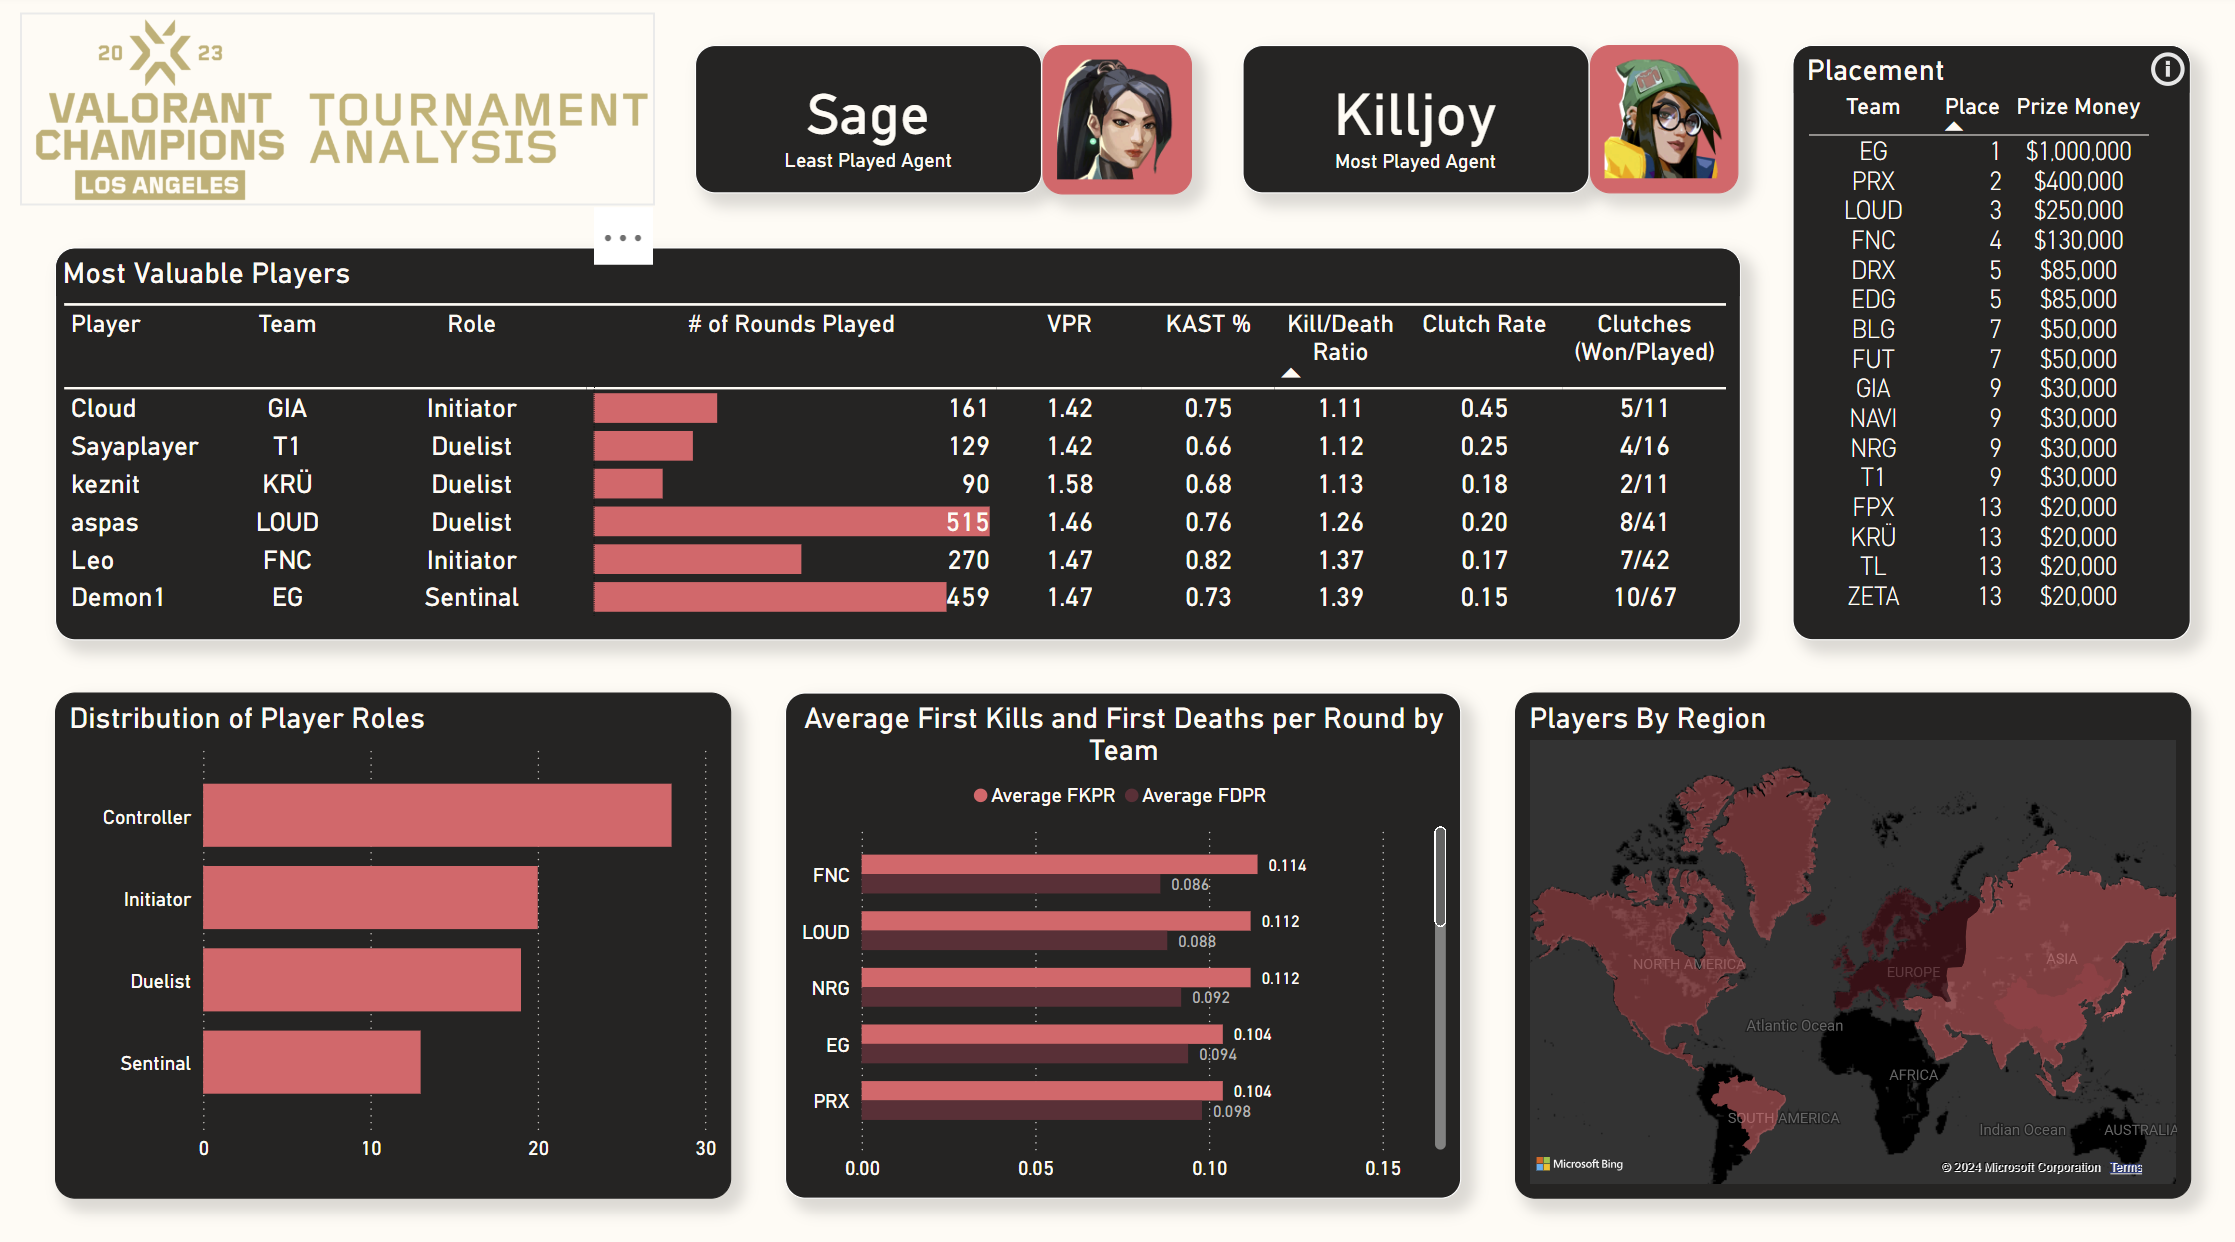

The dashboard page shown, as its layout file describes it:
{"tool":"powerbi","page":{"name":"Tournament Analysis","canvas":[1664,936],"ordinal":2},"visuals":[{"type":"clusteredBarChart","title":"Distribution of Player Roles","fields":{"Category":["AgentRoles.Role"],"Y":["PlayerDominantRoles.DominantRole"]},"box":[40,521,501,375],"z":1000},{"type":"tableEx","title":"Most Valuable Players ","fields":{"Values":["ValProData.PlayerName","ValProData.Team","ValProData.DominantRole","ValProData.Rnd","ValProData.VPR","ValProData.KAST_percentage","ValProData.K:D","ValProData.CL_percentage","ValProData.CL"]},"box":[40.3,190.6,1249.7,291.4],"z":2000},{"type":"filledMap","title":"Players By Region","fields":{"Category":["TeamRegion.Region"]},"box":[1122,521,501,375],"z":3000},{"type":"card","fields":{"Values":["AgentPlayCount.Most Played Agent"]},"box":[921,40.3,257,110],"z":4000},{"type":"card","fields":{"Values":["AgentPlayCount.Least Played Agent"]},"box":[514.9,40.3,257,110],"z":5000},{"type":"clusteredBarChart","title":"Average First Kills and First Deaths per Round by Team","fields":{"Category":["TeamRegion.Team"],"Y":["ValProData.FKPR","ValProData.FDPR"]},"box":[581,521,501,375],"z":6000},{"type":"tableEx","title":"Placement","fields":{"Values":["TeamPlacement.Team","TeamPlacement.Place","TeamPlacement.PrizeMoney"]},"box":[1329,40,295,441],"z":7000},{"type":"image","box":[1178,40.7,110.2,110.2],"z":8000},{"type":"image","box":[772,39.9,110.7,110.7],"z":9000},{"type":"image","box":[15,16,470.5,142.7],"z":10000},{"type":"actionButton","box":[1328.6,106.1,104.1,22.4],"z":11000},{"type":"actionButton","box":[1589.4,39.2,33.9,39.2],"z":12000},{"type":"actionButton","box":[1328.6,126.5,106.1,23.5],"z":13000},{"type":"actionButton","box":[1328.6,150,106.1,24.5],"z":14000},{"type":"actionButton","box":[1328.6,174.5,107.1,20.4],"z":15000},{"type":"actionButton","box":[1328.3,196.1,107.2,20],"z":16000},{"type":"actionButton","box":[1328.9,216.1,107.2,22],"z":17000},{"type":"actionButton","box":[1329.4,238.3,107.2,22.2],"z":18000},{"type":"actionButton","box":[1330,260.6,107.2,22.2],"z":19000}]}

Visuals, with their boxes in screenshot pixels (x1, y1, x2, y2), scaled from the page's 1664x936 canvas onto the 2235x1242 screenshot:
"Distribution of Player Roles" clusteredBarChart: {"x1": 54, "y1": 691, "x2": 727, "y2": 1189}
"Most Valuable Players " tableEx: {"x1": 54, "y1": 253, "x2": 1733, "y2": 640}
"Players By Region" filledMap: {"x1": 1507, "y1": 691, "x2": 2180, "y2": 1189}
card - AgentPlayCount.Most Played Agent: {"x1": 1237, "y1": 53, "x2": 1582, "y2": 199}
card - AgentPlayCount.Least Played Agent: {"x1": 692, "y1": 53, "x2": 1037, "y2": 199}
"Average First Kills and First Deaths per Round by Team" clusteredBarChart: {"x1": 780, "y1": 691, "x2": 1453, "y2": 1189}
"Placement" tableEx: {"x1": 1785, "y1": 53, "x2": 2181, "y2": 638}
image: {"x1": 1582, "y1": 54, "x2": 1730, "y2": 200}
image: {"x1": 1037, "y1": 53, "x2": 1186, "y2": 200}
image: {"x1": 20, "y1": 21, "x2": 652, "y2": 211}
actionButton: {"x1": 1785, "y1": 141, "x2": 1924, "y2": 171}
actionButton: {"x1": 2135, "y1": 52, "x2": 2180, "y2": 104}
actionButton: {"x1": 1785, "y1": 168, "x2": 1927, "y2": 199}
actionButton: {"x1": 1785, "y1": 199, "x2": 1927, "y2": 232}
actionButton: {"x1": 1785, "y1": 232, "x2": 1928, "y2": 259}
actionButton: {"x1": 1784, "y1": 260, "x2": 1928, "y2": 287}
actionButton: {"x1": 1785, "y1": 287, "x2": 1929, "y2": 316}
actionButton: {"x1": 1786, "y1": 316, "x2": 1930, "y2": 346}
actionButton: {"x1": 1786, "y1": 346, "x2": 1930, "y2": 375}
